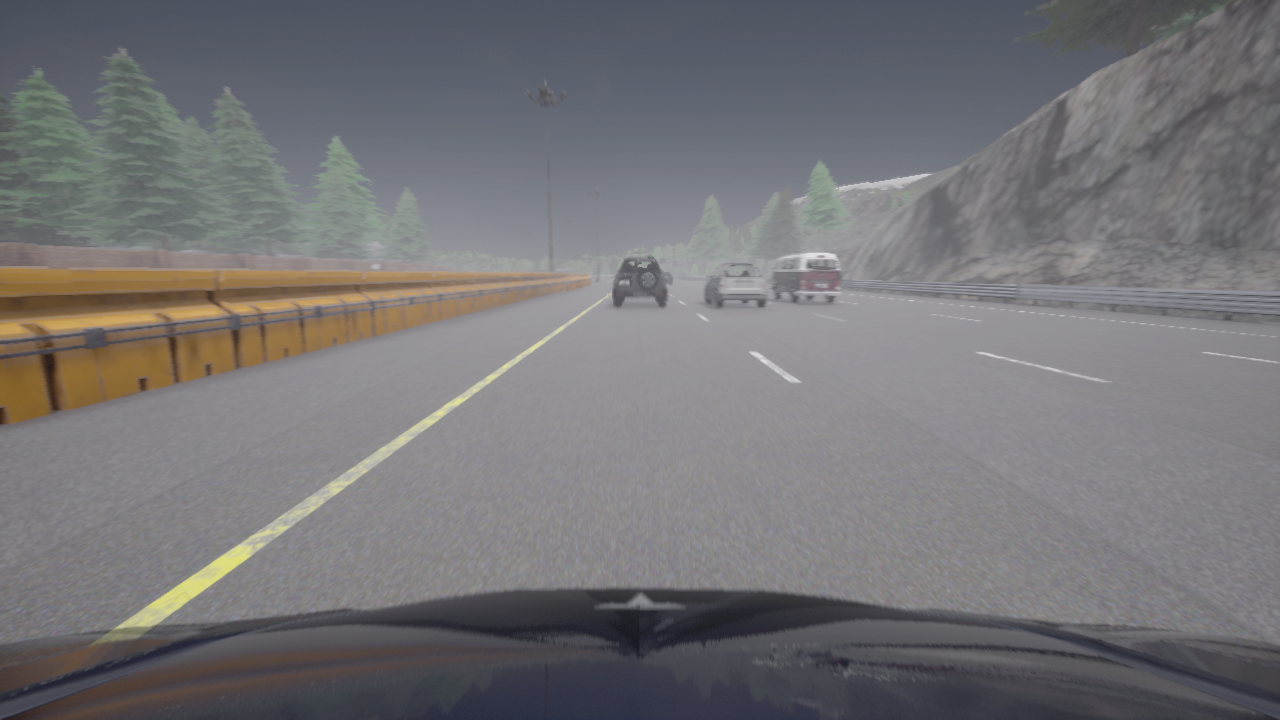cyclist: (0, 588, 1279, 719), (770, 252, 840, 303), (705, 262, 767, 308), (613, 256, 666, 306), (661, 271, 671, 283)
